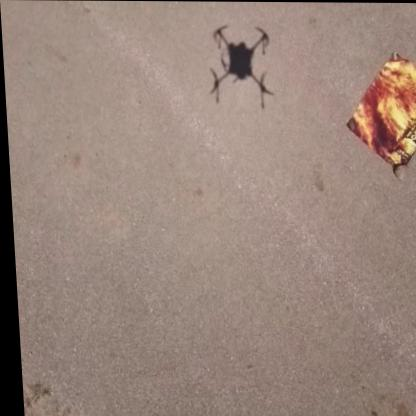fire-poster: (341, 49, 416, 176)
